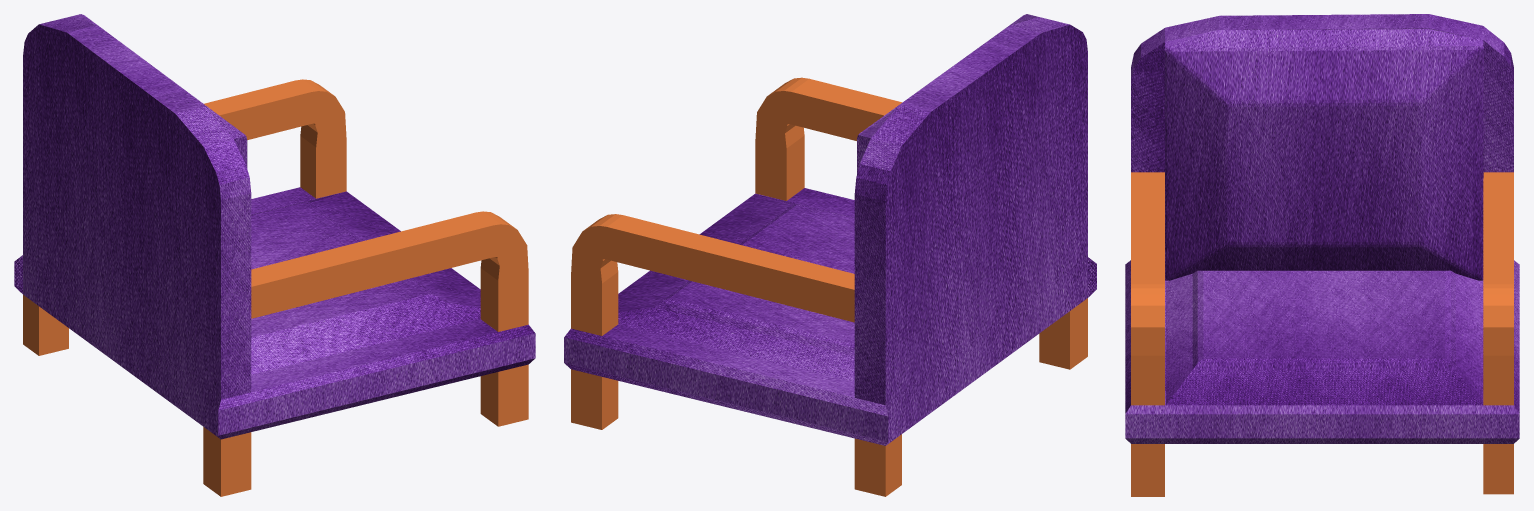
File: Furniture.fbx
3 renders of one model, left to right at view 1: azimuth 30°, elevation 25°; view 2: azimuth 150°, elevation 25°; view 3: azimuth 270°, elevation 25°, orthographic. The views are drawn at different scales.
Parts seen in each view (by area): view 1: Cube; view 2: Cube; view 3: Cube.
Boxes of the visible parts, left/top/right/bottom form: Cube: left=14, top=14, right=535, bottom=496; Cube: left=564, top=14, right=1096, bottom=496; Cube: left=1125, top=14, right=1519, bottom=496.
Size of the model in its own units: 665 by 705 by 741.
